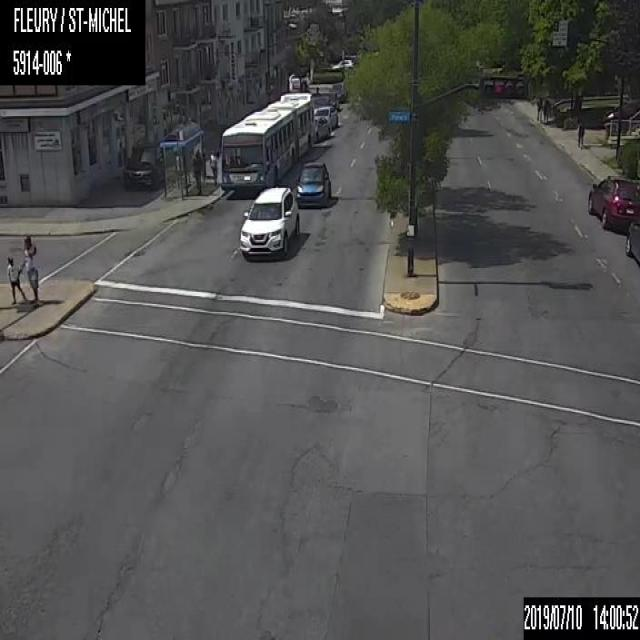bus: (220, 92, 313, 192)
pedestrian: (21, 233, 38, 303), (6, 255, 24, 304), (192, 151, 202, 194), (209, 146, 217, 182), (543, 96, 551, 122), (535, 95, 543, 121), (577, 121, 583, 147)
vehicle: (239, 186, 299, 261), (587, 174, 639, 230), (122, 141, 165, 189), (296, 160, 331, 208), (624, 215, 639, 268), (313, 104, 336, 130), (314, 116, 331, 142), (330, 82, 346, 100), (325, 91, 338, 109), (332, 59, 353, 68)
